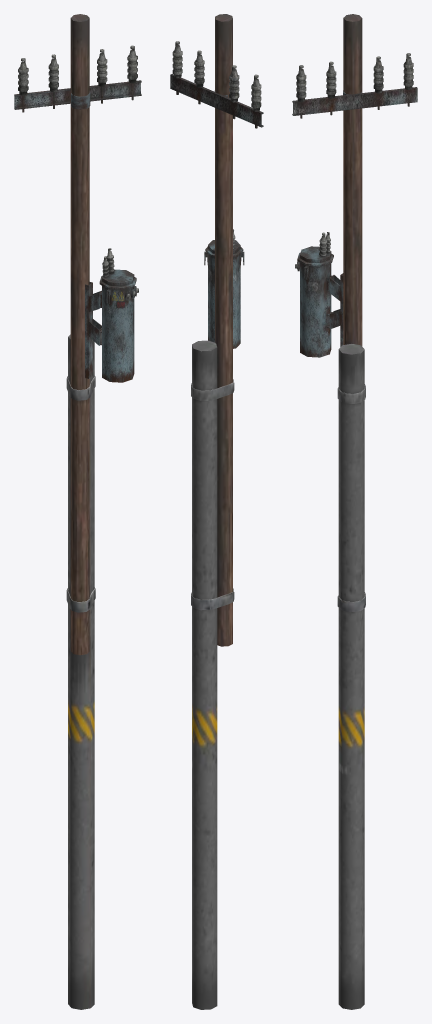
Rendered from pole_a.glb.
3 renders of one model, left to right at view 1: azimuth 90°, elevation 25°; view 2: azimuth 210°, elevation 25°; view 3: azimuth 270°, elevation 25°, orthographic.
Parts seen in each view (by area): view 1: pole_a; view 2: pole_a; view 3: pole_a.
Boxes of the visible parts, x1,y1,x2,y2 form: pole_a: (14,14,141,1009); pole_a: (170,14,263,1009); pole_a: (292,14,417,1009).
Bounding box in the file's own units: 0.8232 × 11.77 × 1.37.
1 material, 1 textured.
